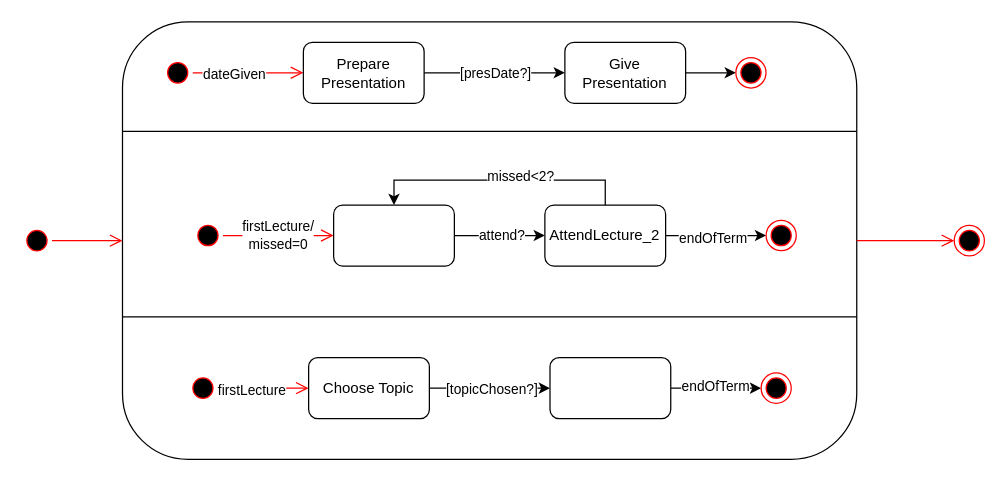
Image size: 1006x481. Some labels were removed from this diagram. Each missing label, with the centre of its shape:
"AttendLecture_1" belongs at (x=393, y=235).
"Do Project" belongs at (x=610, y=387).
